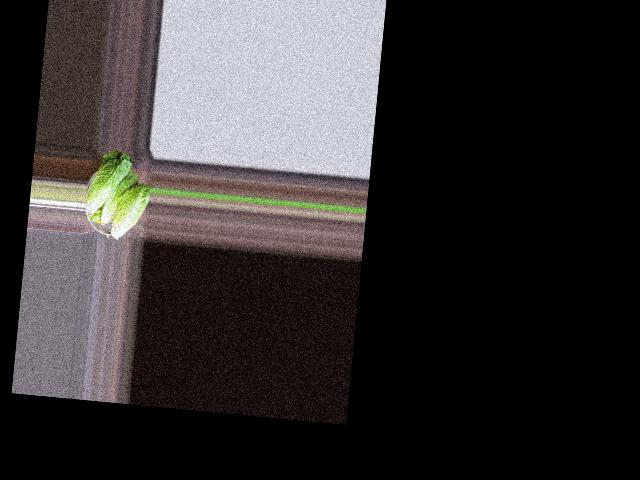lettuce: (84, 149, 134, 224)
